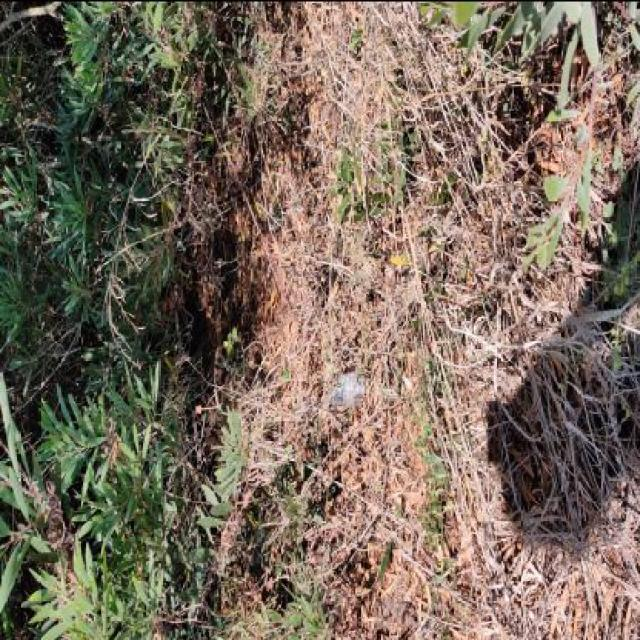plastic: (328, 370, 366, 404)
